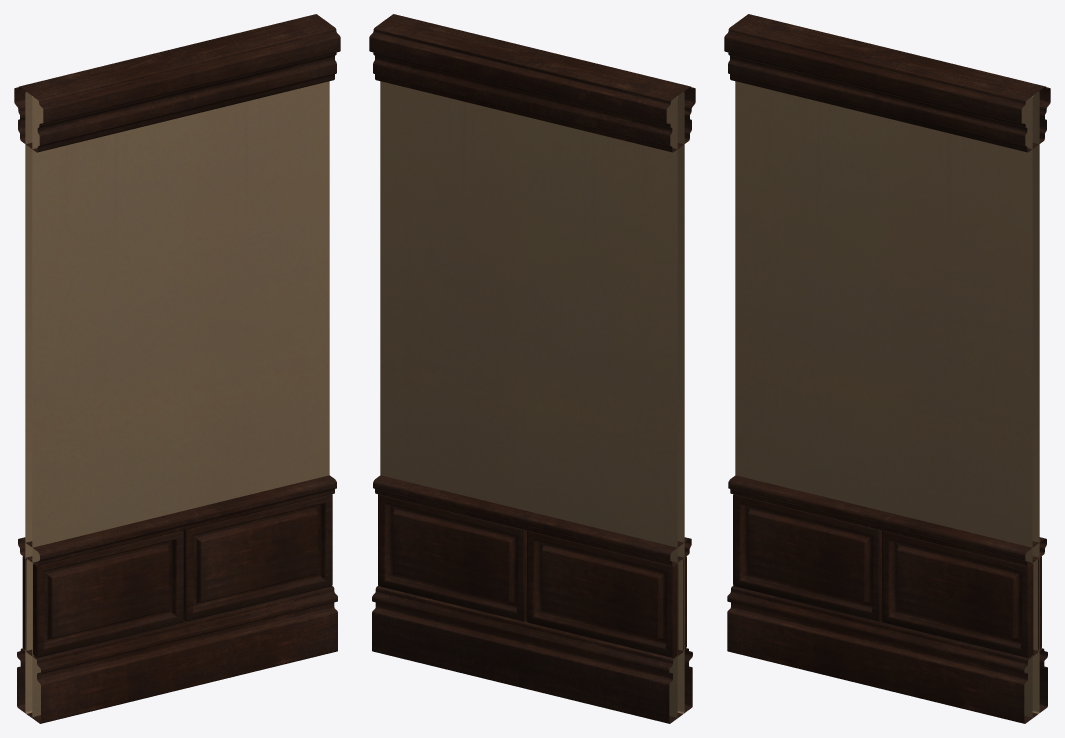
The model's file is SK7 WALL 1 INT.fbx.
3 views of the same model, side by side, from view 1: azimuth 30°, elevation 25°; view 2: azimuth 150°, elevation 25°; view 3: azimuth 330°, elevation 25° (orthographic).
Visible parts, largest first — view 1: SK7 WALL 1 INT; view 2: SK7 WALL 1 INT; view 3: SK7 WALL 1 INT.
Boxes of the visible parts, <box> form: SK7 WALL 1 INT: <box>14,14,340,723</box>; SK7 WALL 1 INT: <box>369,14,695,723</box>; SK7 WALL 1 INT: <box>724,14,1050,723</box>.
Bounding box in the file's own units: 200 × 400 × 33.96.
